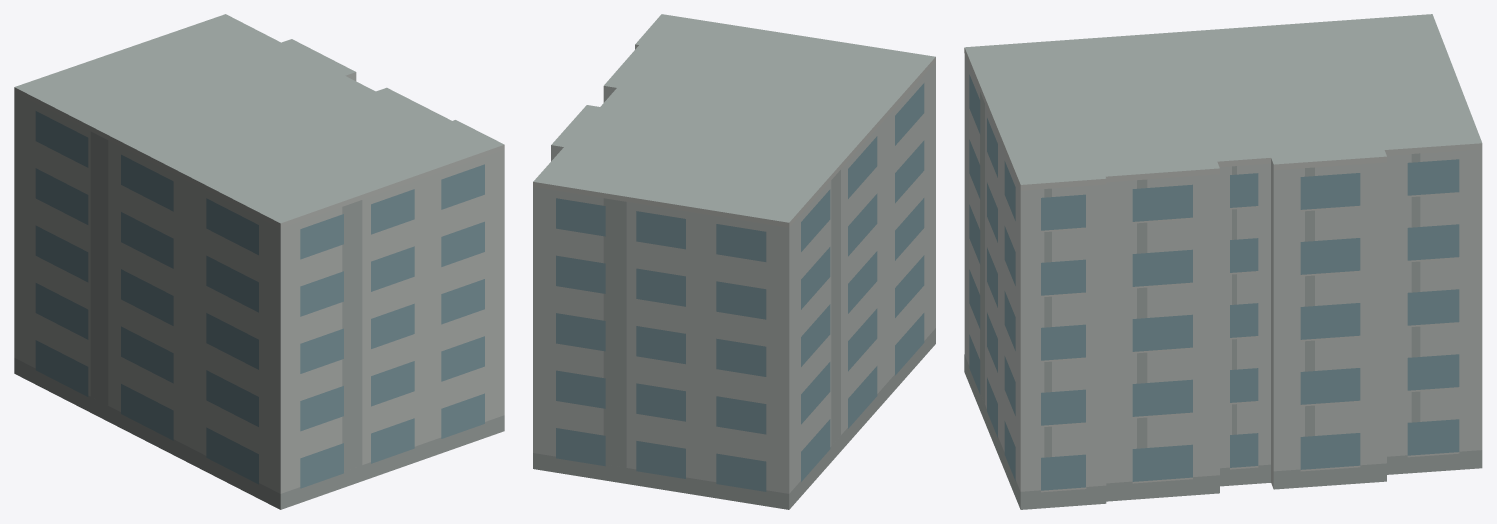
Rendered from survey-upis-32887265.glb.
3 views of the same model, side by side, from view 1: azimuth 30°, elevation 25°; view 2: azimuth 150°, elevation 25°; view 3: azimuth 270°, elevation 25° (orthographic). The views are drawn at different scales.
Parts seen in each view (by area): view 1: survey-upis-32887265.tmp; view 2: survey-upis-32887265.tmp; view 3: survey-upis-32887265.tmp.
Part boxes in pixels (box(x1,y1,x2,y2)): survey-upis-32887265.tmp: box(14, 14, 504, 509); survey-upis-32887265.tmp: box(533, 14, 935, 509); survey-upis-32887265.tmp: box(964, 14, 1482, 509).
Bounding box in the file's own units: 15.35 × 13.6 × 19.66.
